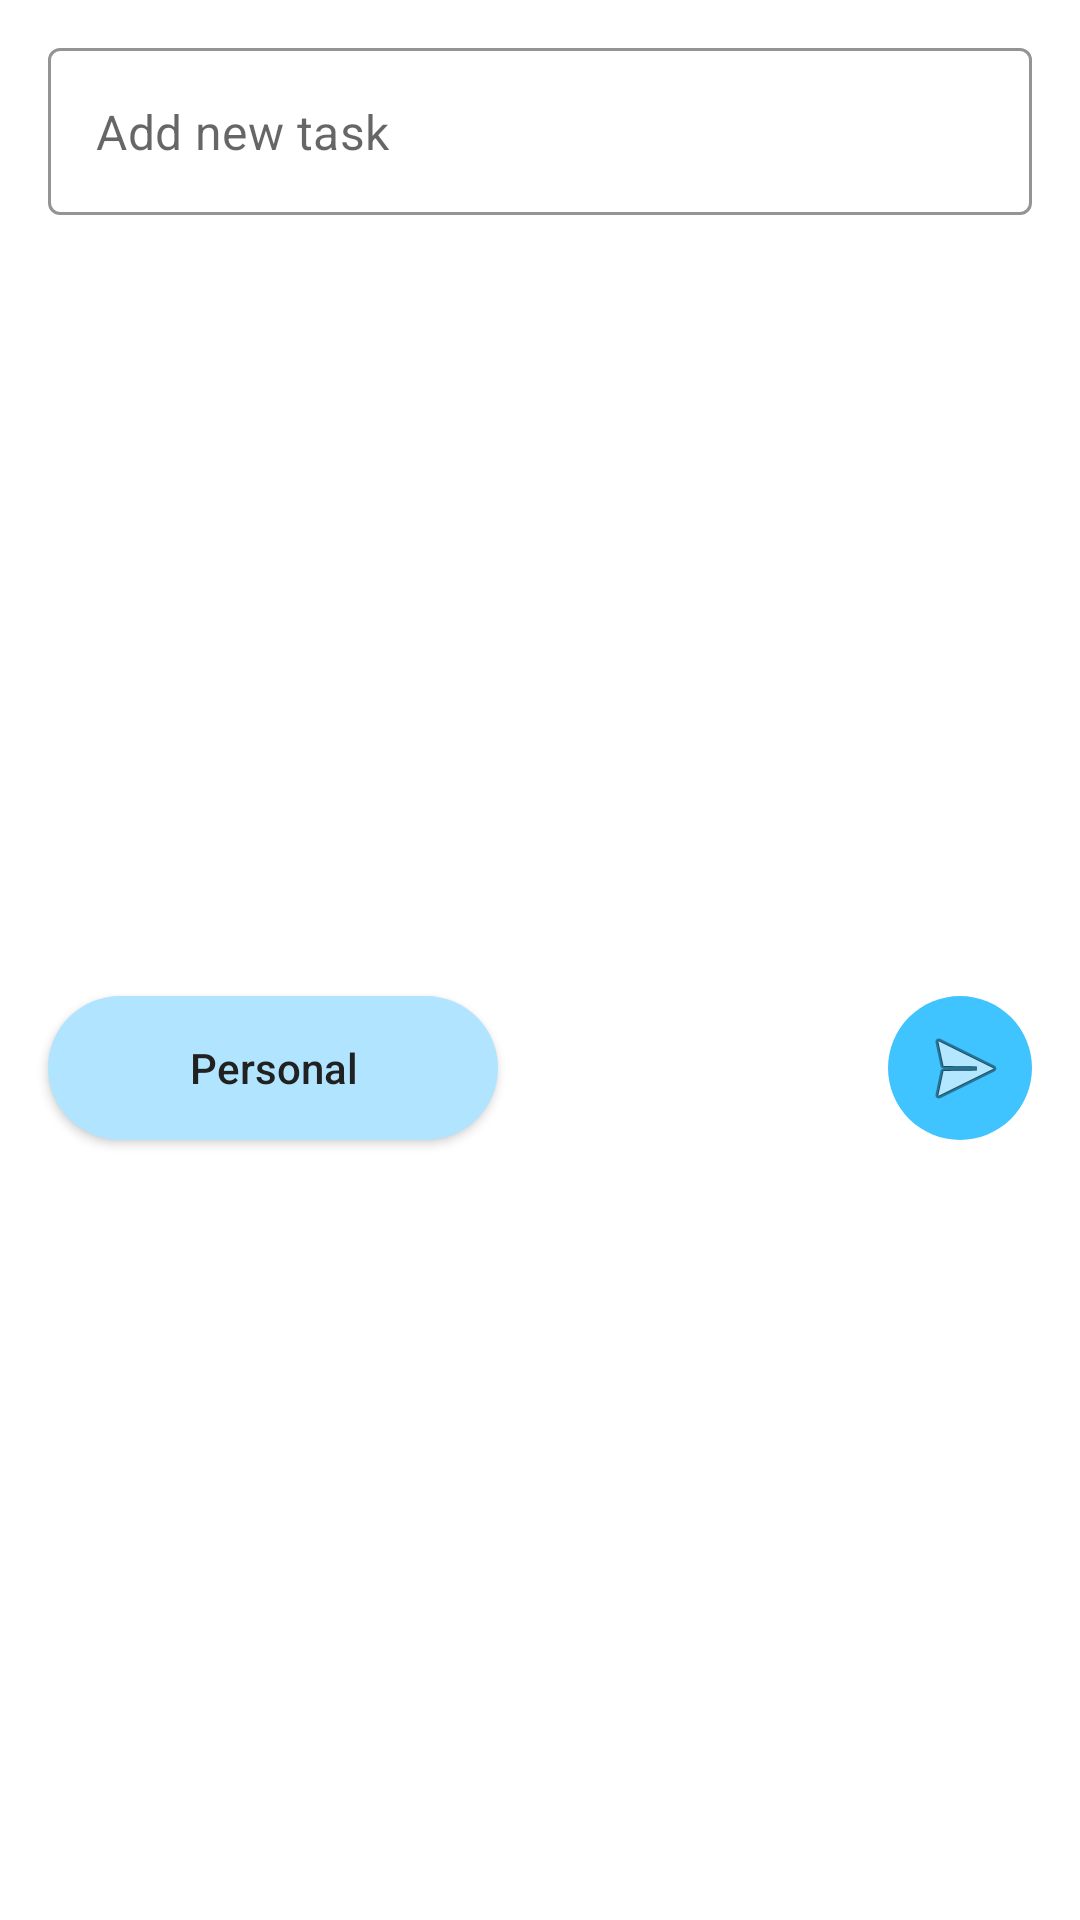

Screen size 1080*1920. Icon name, then its box in pixels as [left=x1, top=y1, right=x2, bottom=y2]:
send: [left=888, top=996, right=1032, bottom=1140]
